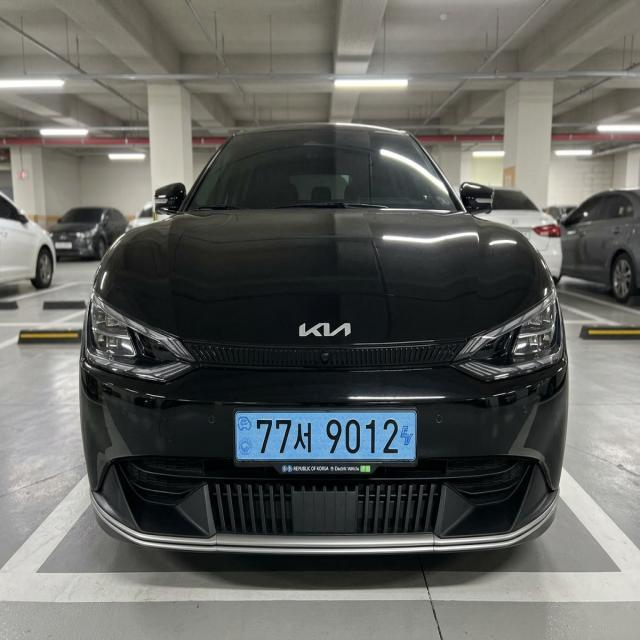car: (224, 396, 431, 493)
carev: (397, 408, 419, 461), (235, 413, 255, 461)
